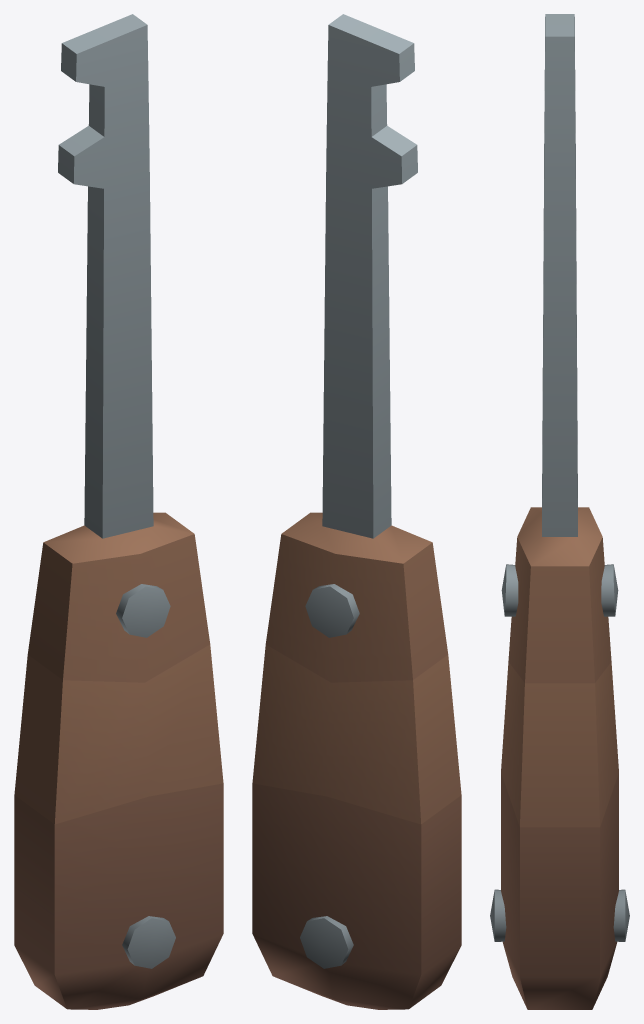
File: lockpick_A.obj
3 views of the same model, side by side, from view 1: azimuth 30°, elevation 25°; view 2: azimuth 150°, elevation 25°; view 3: azimuth 270°, elevation 25° (orthographic).
Parts seen in each view (by area): view 1: lockpick_A; view 2: lockpick_A; view 3: lockpick_A.
Part boxes in pixels (x1,y1,x2,y2): lockpick_A: (14,14,223,1009); lockpick_A: (252,14,461,1009); lockpick_A: (490,14,629,1009).
Bounding box in the file's own units: 0.1513 × 0.8367 × 0.1093.
Materials: 1 (1 with a texture image).
